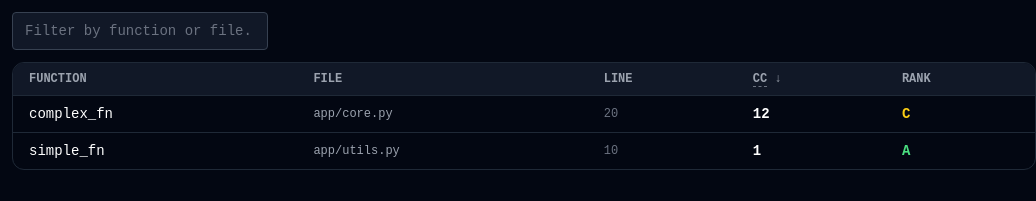
Scenario: ComplexityTable › shows empty state when filter matches nothing
This screenshot has width=1036, height=201.
Type "zzznomatch" into the field with placeholder "Filter by function or file..." at (140,31), box [12, 12, 268, 50]
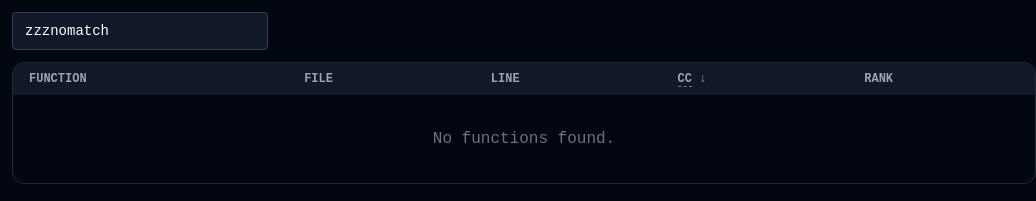
Expected: the text "No functions found." is shown, [433, 130, 615, 148]
